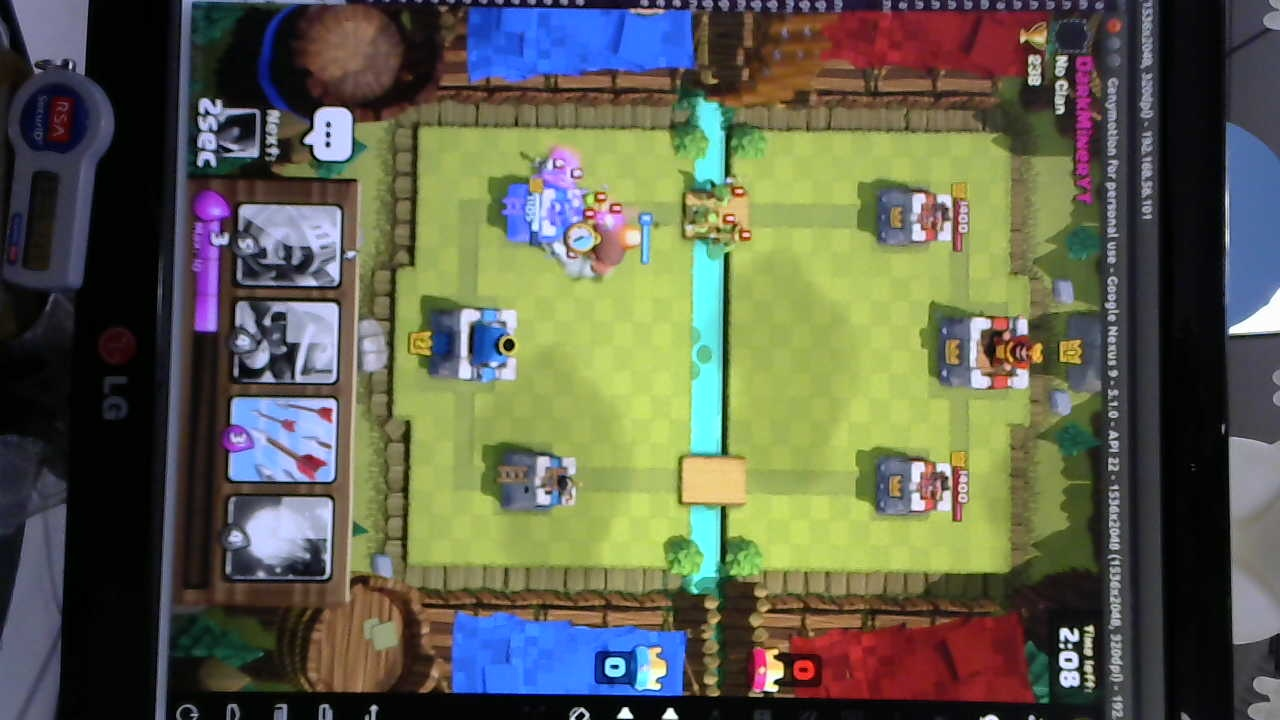arena: (499, 179, 590, 250), (501, 448, 579, 511)
earena: (875, 452, 956, 519), (873, 184, 955, 246)
eking: (933, 314, 1038, 391)
giant: (590, 204, 639, 275)
goblin: (573, 187, 612, 213)
king: (432, 304, 525, 386)
skeleton: (526, 154, 583, 182)
speargoblins: (690, 176, 746, 260)
